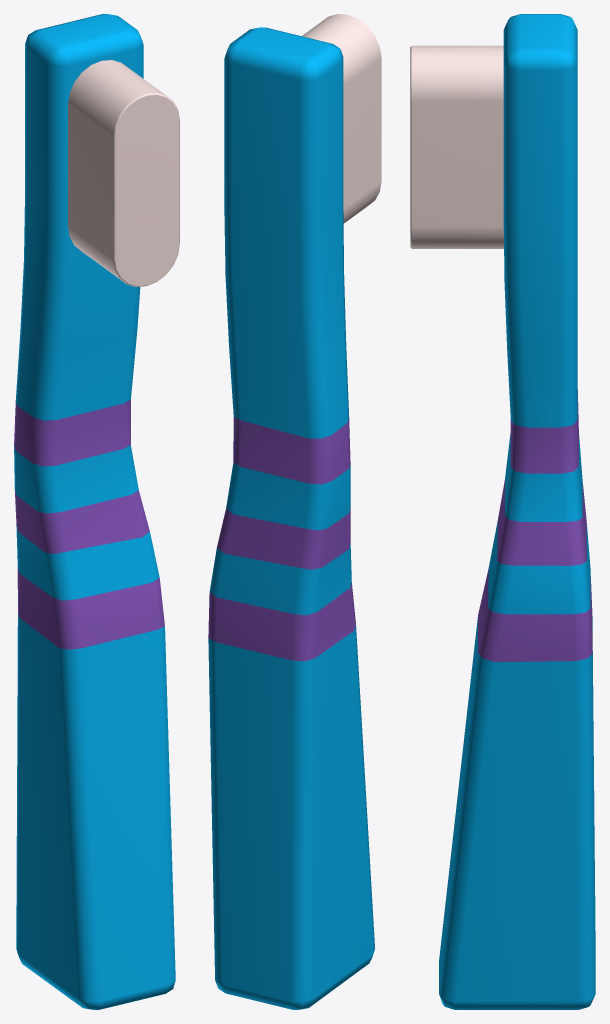
File: Public_20_Toothbrush_3.glb
The picture shows the model from 3 angles, left to right: view 1: azimuth 30°, elevation 25°; view 2: azimuth 150°, elevation 25°; view 3: azimuth 270°, elevation 25°; orthographic projection. The views are drawn at different scales.
Visible parts, largest first — view 1: Public_20_Toothbrush_3; view 2: Public_20_Toothbrush_3; view 3: Public_20_Toothbrush_3.
Part boxes in pixels (box(x1,y1,x2,y2)): Public_20_Toothbrush_3: box(14, 14, 179, 1009); Public_20_Toothbrush_3: box(208, 14, 381, 1009); Public_20_Toothbrush_3: box(410, 14, 595, 1009).
Size of the model in its own units: 0.3416 by 2.68 by 0.4681.
1 material, 1 textured.
